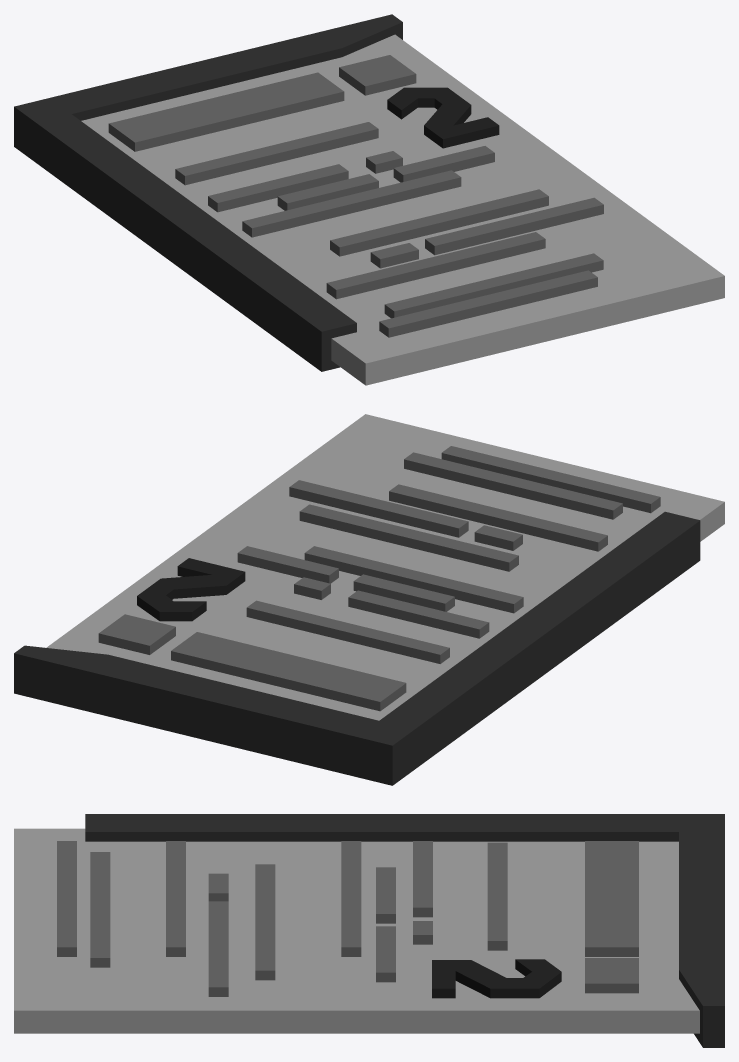
File: dossier_2.FBX
3 views of the same model, one above another, from view 1: azimuth 30°, elevation 25°; view 2: azimuth 150°, elevation 25°; view 3: azimuth 270°, elevation 25° (orthographic). The views are drawn at different scales.
Visible parts, largest first — view 1: dossier_2; view 2: dossier_2; view 3: dossier_2.
Part boxes in pixels (left/top/right/bottom): dossier_2: left=14, top=14, right=724, bottom=385; dossier_2: left=14, top=414, right=724, bottom=785; dossier_2: left=14, top=814, right=724, bottom=1047.
Size of the model in its own units: 18.59 by 1.9 by 29.11.
